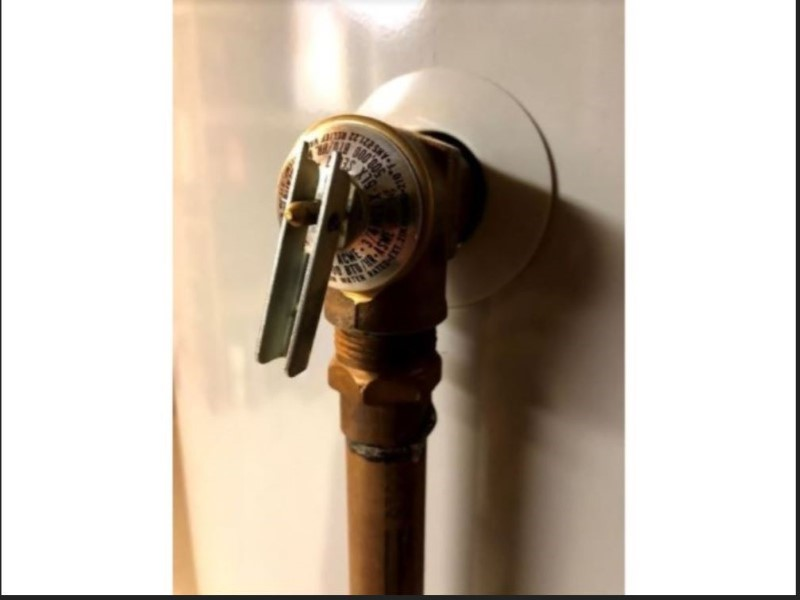Valve: (251, 115, 437, 389)
